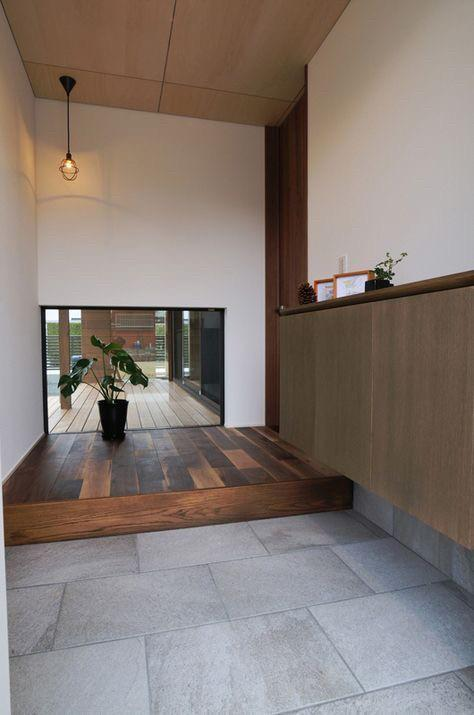floor: (5, 509, 473, 714)
safe: (3, 426, 344, 505)
